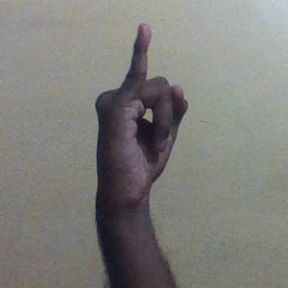I: (92, 23, 191, 195)
